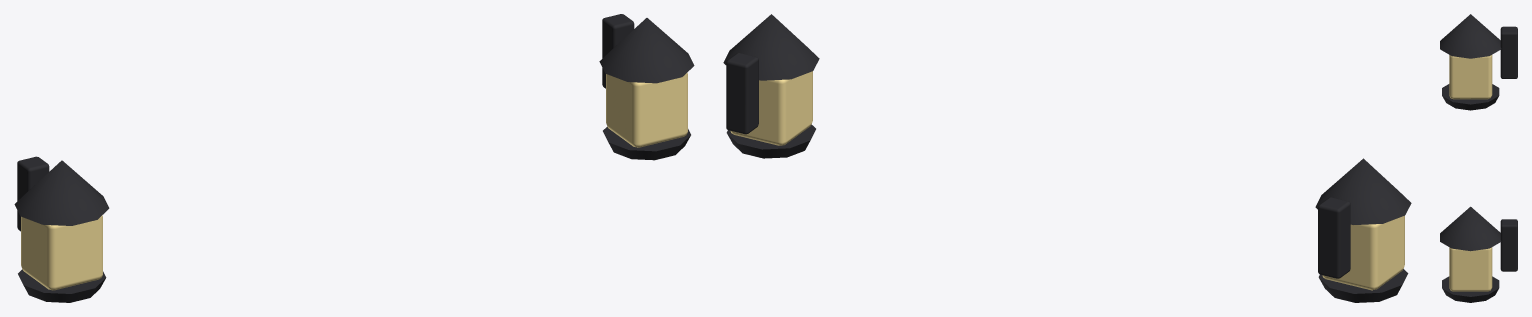
File: house_lamps.glb
3 renders of one model, left to right at view 1: azimuth 30°, elevation 25°; view 2: azimuth 150°, elevation 25°; view 3: azimuth 270°, elevation 25°, orthographic. The views are drawn at different scales.
Parts seen in each view (by area): view 1: house_lamps_main, house_lamps_glass; view 2: house_lamps_main, house_lamps_glass; view 3: house_lamps_main, house_lamps_glass.
Boxes of the visible parts, bbox=[...] form: house_lamps_main: bbox=[14, 14, 694, 302]; house_lamps_glass: bbox=[21, 72, 687, 290]; house_lamps_main: bbox=[723, 14, 1411, 302]; house_lamps_glass: bbox=[730, 71, 1404, 290]; house_lamps_main: bbox=[1440, 14, 1517, 302]; house_lamps_glass: bbox=[1449, 55, 1492, 291].
Bounding box in the file's own units: 1.21 × 0.22 × 0.1813.
